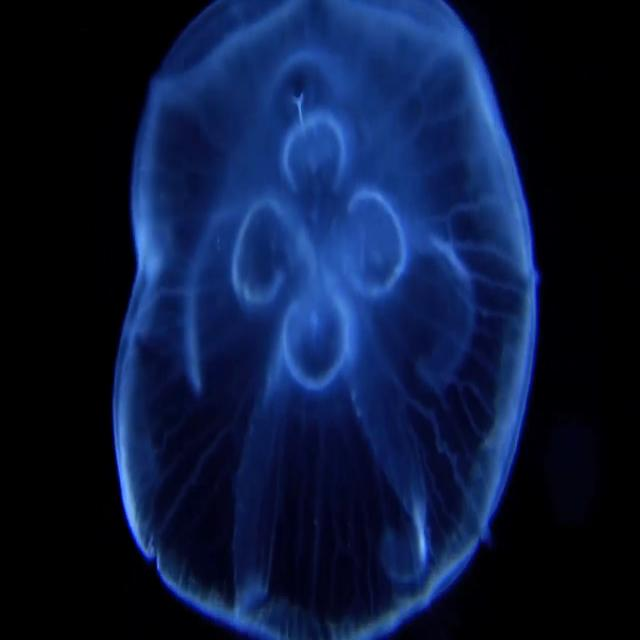Moon-jellyfish: (114, 0, 537, 639), (117, 2, 538, 639)
